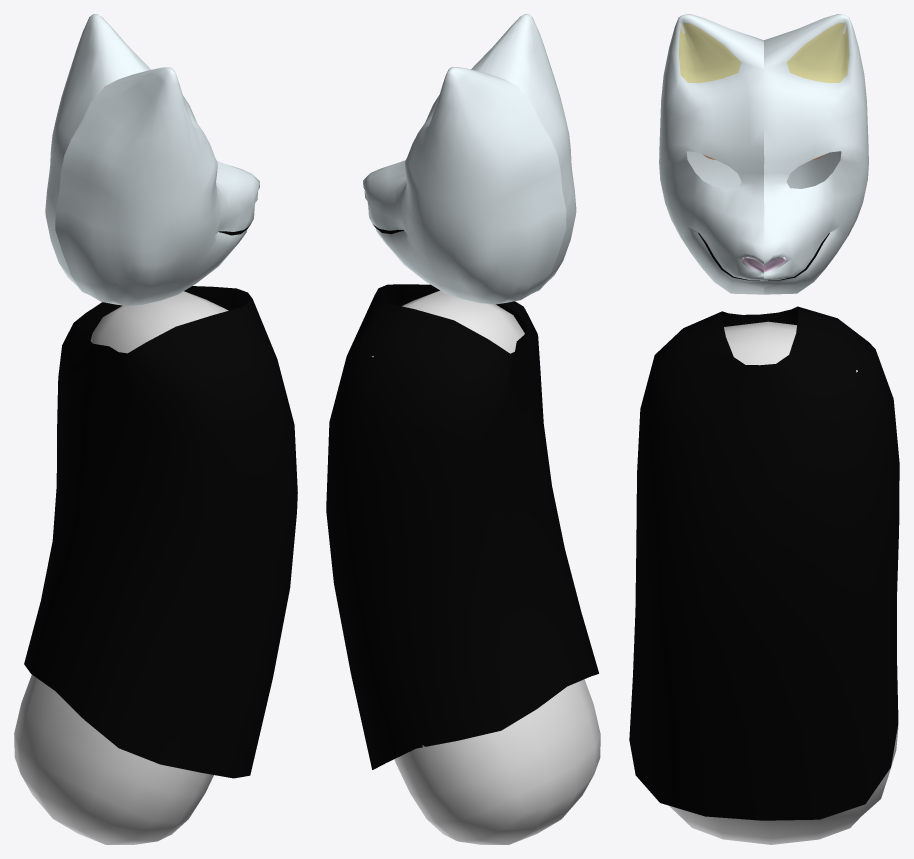
The model's file is NPC 4.fbx.
3 views of the same model, side by side, from view 1: azimuth 30°, elevation 25°; view 2: azimuth 150°, elevation 25°; view 3: azimuth 270°, elevation 25° (orthographic). The views are drawn at different scales.
Parts seen in each view (by area): view 1: T-shirt.008, Mask.006, body.008; view 2: T-shirt.008, Mask.006, body.008; view 3: T-shirt.008, Mask.006, body.008.
Part boxes in pixels (x1,y1,x2,y2): T-shirt.008: (24,286,297,778); Mask.006: (45,14,259,305); body.008: (14,291,228,844); T-shirt.008: (326,284,598,769); Mask.006: (363,14,576,304); body.008: (372,290,600,844); T-shirt.008: (629,306,899,820); Mask.006: (659,14,868,294); body.008: (669,321,898,844).
Size of the model in its own units: 2.26 by 7.21 by 2.12.
